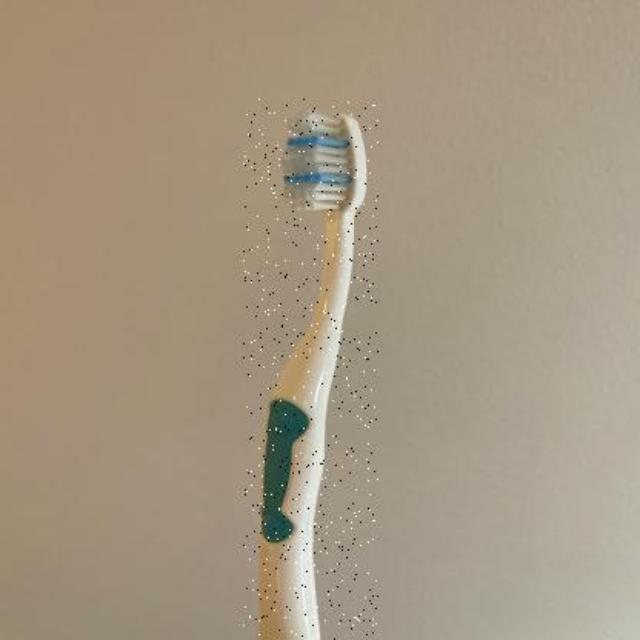toothbrush: (244, 98, 378, 640)
